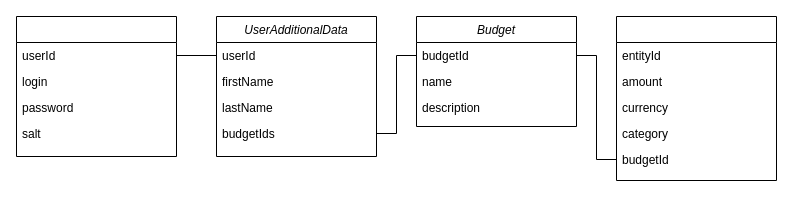
This 793x197 diagram has some shape labels left out. Here are the shapes that lost their labels. From the top down, the box of each, then its label:
(16, 16, 176, 156): UserLoginData
(616, 16, 776, 180): BudgetEntity
